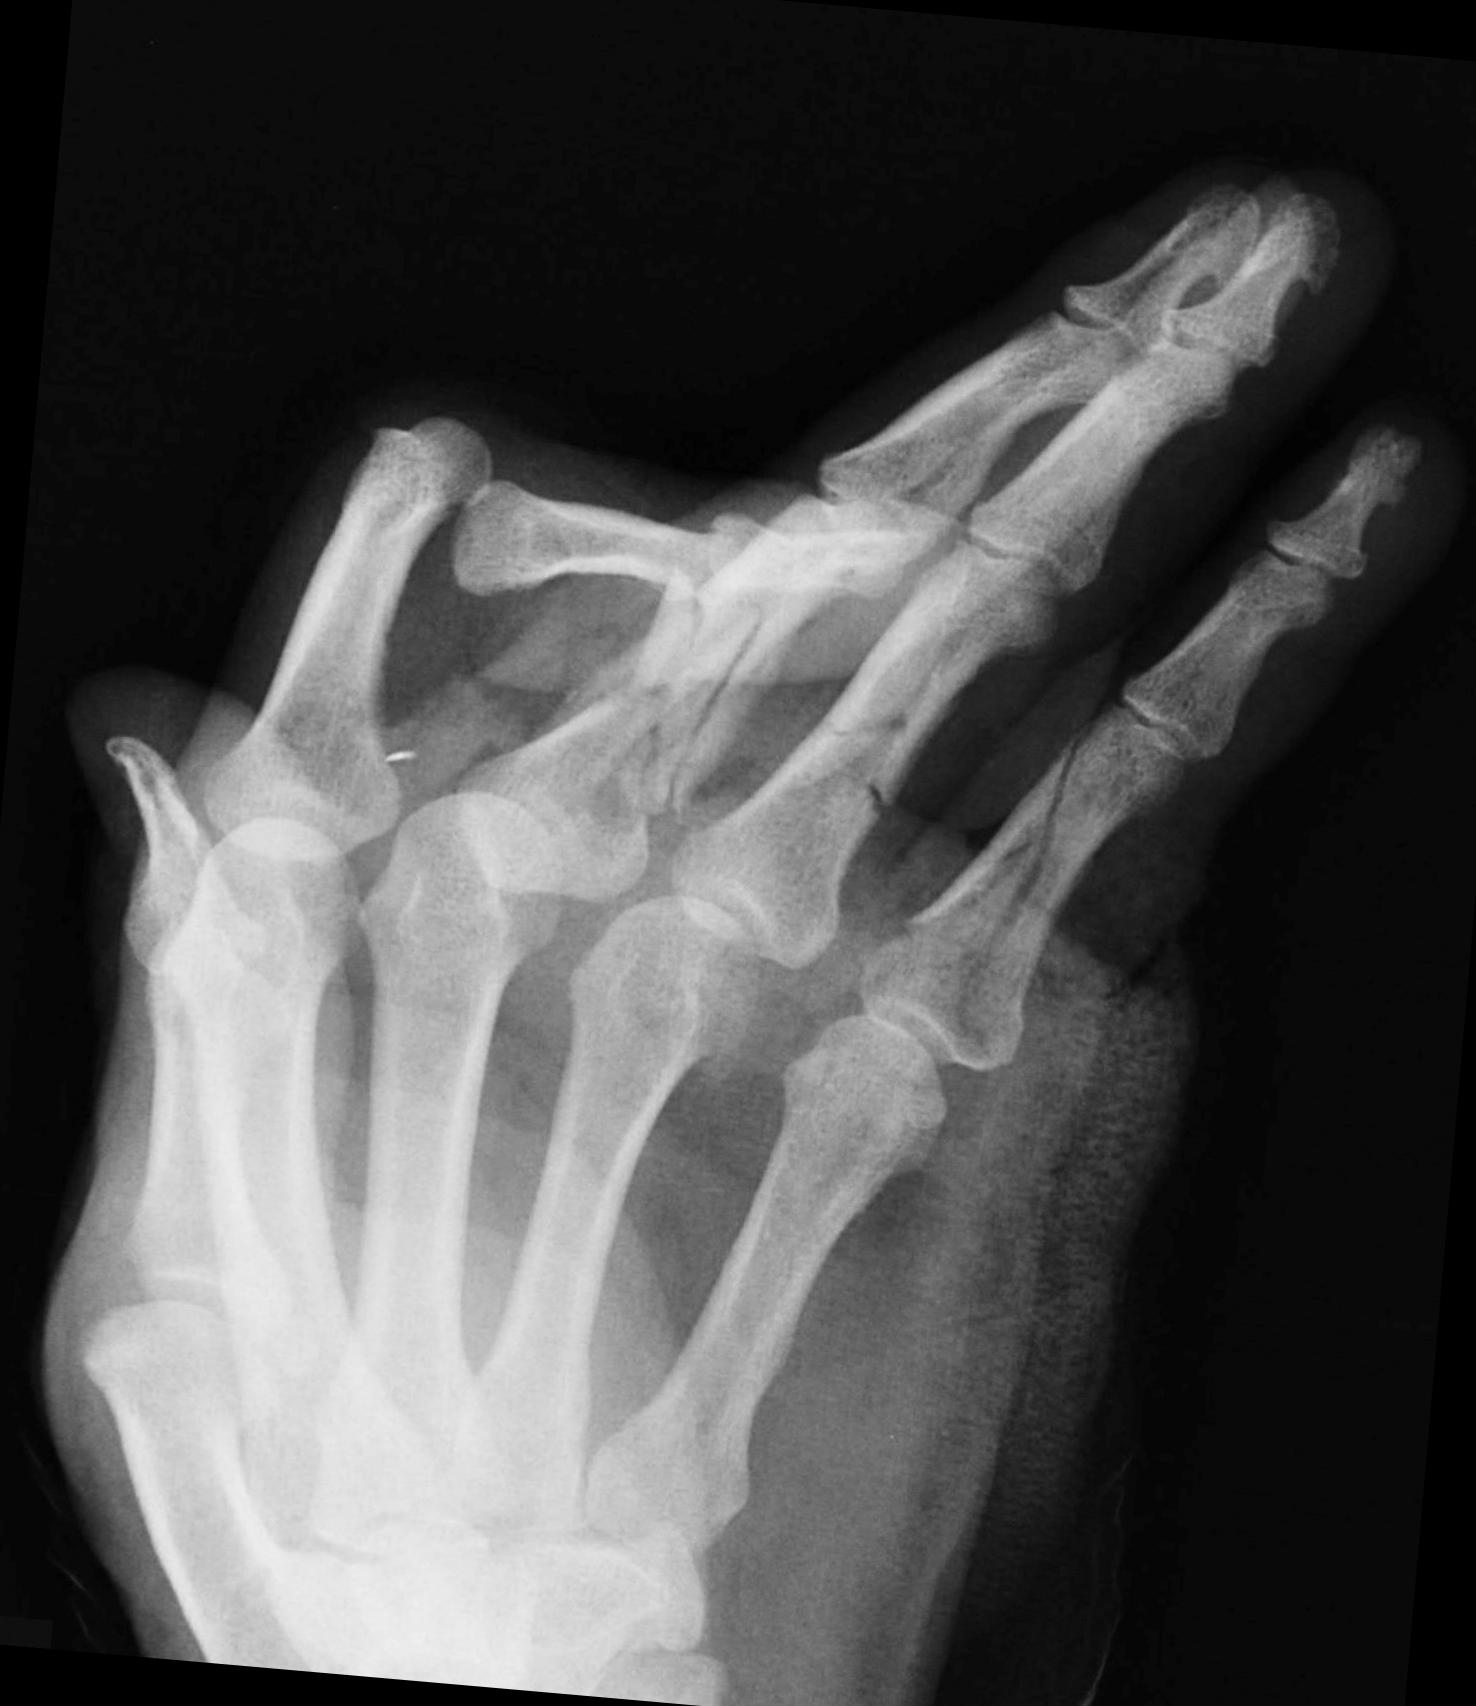fracture: (938, 705, 1107, 1068), (644, 582, 774, 828), (805, 701, 922, 825), (450, 444, 509, 519)
